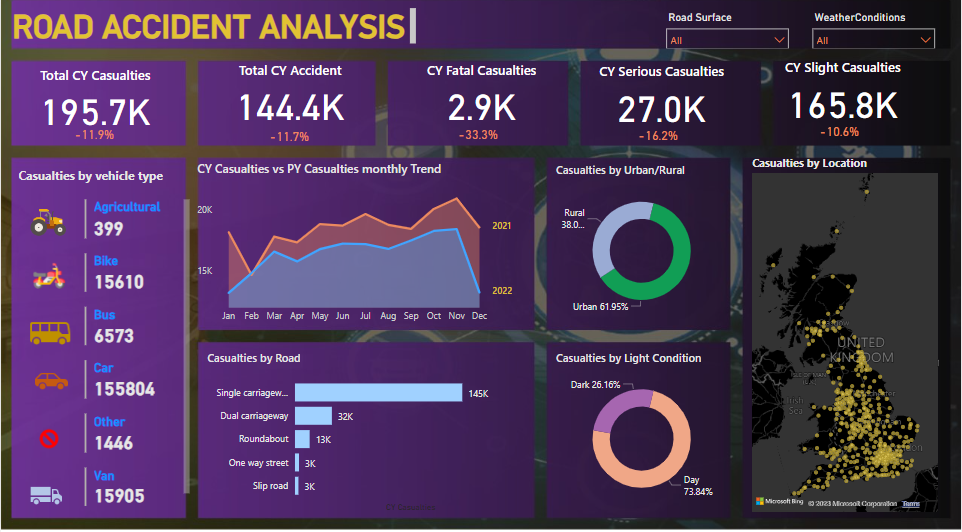

Layout of this report page (visuals, bound fields, positions):
{"tool":"powerbi","page":{"name":"Page 1","canvas":[1280,720],"ordinal":0},"visuals":[{"type":"card","title":"CY Slight Casualties","fields":{"Values":["Data.CY Casualties"]},"box":[1007.1,88.6,231.4,91.4],"z":0,"group":"g5"},{"type":"card","title":"Total CY Accident","fields":{"Values":["Data.CY Accidents"]},"box":[270,91.4,231.2,91.7],"z":0,"group":"g2"},{"type":"card","title":"CY Fatal Casualties","fields":{"Values":["Data.CY Casualties"]},"box":[524.3,91.4,231.4,91.4],"z":0,"group":"g3"},{"type":"card","title":"CY Serious Casualties","fields":{"Values":["Data.CY Casualties"]},"box":[765.7,92.9,231.4,91.4],"z":0,"group":"g4"},{"type":"group","id":"g1","title":"Group 1","box":[10.7,97.6,232.1,114.2],"z":0},{"type":"card","title":"Total CY Casualties","fields":{"Values":["Data.CY Casualties"]},"box":[10.7,97.6,231.2,91.7],"z":0,"group":"g1"},{"type":"group","id":"g2","title":"Group 1","box":[270,91.4,231.2,125.1],"z":1000},{"type":"card","fields":{"Values":["Data.YoY Casualties"]},"box":[1071,165.1,95.7,44.3],"z":1000,"group":"g5"},{"type":"card","fields":{"Values":["Data.YoY Casualties"]},"box":[76.8,167.3,95.4,44],"z":1000,"group":"g1"},{"type":"card","fields":{"Values":["Data.YoY Casualties"]},"box":[588.2,167.9,95.7,44.3],"z":1000,"group":"g3"},{"type":"card","fields":{"Values":["Data.YoY Casualties"]},"box":[829.6,169.4,95.7,44.3],"z":1000,"group":"g4"},{"type":"card","fields":{"Values":["Data.YoY Accidents"]},"box":[337.1,172.2,95.7,44.3],"z":1000,"group":"g2"},{"type":"group","id":"g3","title":"Group 1","box":[524.3,91.4,231.4,120.8],"z":2000},{"type":"group","id":"g4","title":"Group 1","box":[765.7,92.9,231.4,121.4],"z":3000},{"type":"group","id":"g5","title":"Group 1","box":[1007.1,88.6,231.4,121.4],"z":4000},{"type":"textbox","box":[10,16,548,58],"z":5000},{"type":"multiRowCard","fields":{"Values":["Data.Vehicle_Type (groups)","Data.CY Casualties"]},"box":[106.8,271.7,150.1,421.8],"z":6000},{"type":"image","box":[37.9,350.5,52.1,57],"z":7000},{"type":"image","box":[24.8,277.2,76.5,60.3],"z":8000},{"type":"image","box":[31.3,420.5,68.4,70],"z":9000},{"type":"image","box":[23.2,490.3,88.3,58.1],"z":10000},{"type":"image","box":[31.3,575.2,65.1,40.7],"z":11000},{"type":"image","box":[20,643.3,80,55],"z":12000},{"type":"textbox","box":[17.6,228.5,215,32.4],"z":13000},{"type":"areaChart","title":"CY Casualties vs PY Casualties monthly Trend","fields":{"Category":["Calendar.Month"],"Y":["Sum(Data.Number_of_Casualties)"],"Series":["Calendar.Date.Variation.Date Hierarchy.Year"]},"box":[256.7,223.3,433.3,226.7],"z":14000},{"type":"donutChart","title":"Casualties by Urban/Rural","fields":{"Category":["Data.Urban_or_Rural_Area"],"Y":["Data.CY Casualties"]},"box":[734.3,227.1,238.6,217.1],"z":15000},{"type":"donutChart","title":"Casualties by Light Condition","fields":{"Y":["Data.CY Casualties"],"Category":["Data.Light_Conditions (groups)"]},"box":[734.4,476.7,238.9,217.8],"z":16000},{"type":"barChart","title":"Casualties by Road","fields":{"Category":["Data.Road_Type"],"Y":["Data.CY Casualties"]},"box":[270,476.7,435,221.7],"z":17000},{"type":"map","title":"Casualties by Location","fields":{"Y":["Data.Latitude"],"X":["Data.Longitude"],"Category":["Data.Local_Authority_(District)"]},"box":[996.7,216.7,258.3,481.7],"z":18000},{"type":"slicer","fields":{"Values":["Data.Weather_Conditions (groups)"]},"box":[1071.7,20,183.3,55],"z":18001},{"type":"slicer","fields":{"Values":["Data.Road_Surface_Conditions (groups)"]},"box":[876.7,20,183.3,55],"z":18002}]}

Visuals, with their boxes in screenshot pixels (x1, y1, x2, y2), scaled from the page's 1280x720 canvas onto the 962x532 screenshot:
"CY Slight Casualties" card: 757,65,931,133
"Total CY Accident" card: 203,68,377,135
"CY Fatal Casualties" card: 394,68,568,135
"CY Serious Casualties" card: 575,69,749,136
"Group 1" group: 8,72,182,156
"Total CY Casualties" card: 8,72,182,140
"Group 1" group: 203,68,377,160
card - Data.YoY Casualties: 805,122,877,155
card - Data.YoY Casualties: 58,124,129,156
card - Data.YoY Casualties: 442,124,514,157
card - Data.YoY Casualties: 623,125,695,158
card - Data.YoY Accidents: 253,127,325,160
"Group 1" group: 394,68,568,157
"Group 1" group: 575,69,749,158
"Group 1" group: 757,65,931,155
textbox: 8,12,419,55
multiRowCard - Data.Vehicle_Type (groups) x Data.CY Casualties: 80,201,193,512
image: 28,259,68,301
image: 19,205,76,249
image: 24,311,75,362
image: 17,362,84,405
image: 24,425,72,455
image: 15,475,75,516
textbox: 13,169,175,193
"CY Casualties vs PY Casualties monthly Trend" areaChart: 193,165,519,332
"Casualties by Urban/Rural" donutChart: 552,168,731,328
"Casualties by Light Condition" donutChart: 552,352,731,513
"Casualties by Road" barChart: 203,352,530,516
"Casualties by Location" map: 749,160,943,516
slicer - Data.Weather_Conditions (groups): 805,15,943,55
slicer - Data.Road_Surface_Conditions (groups): 659,15,797,55
